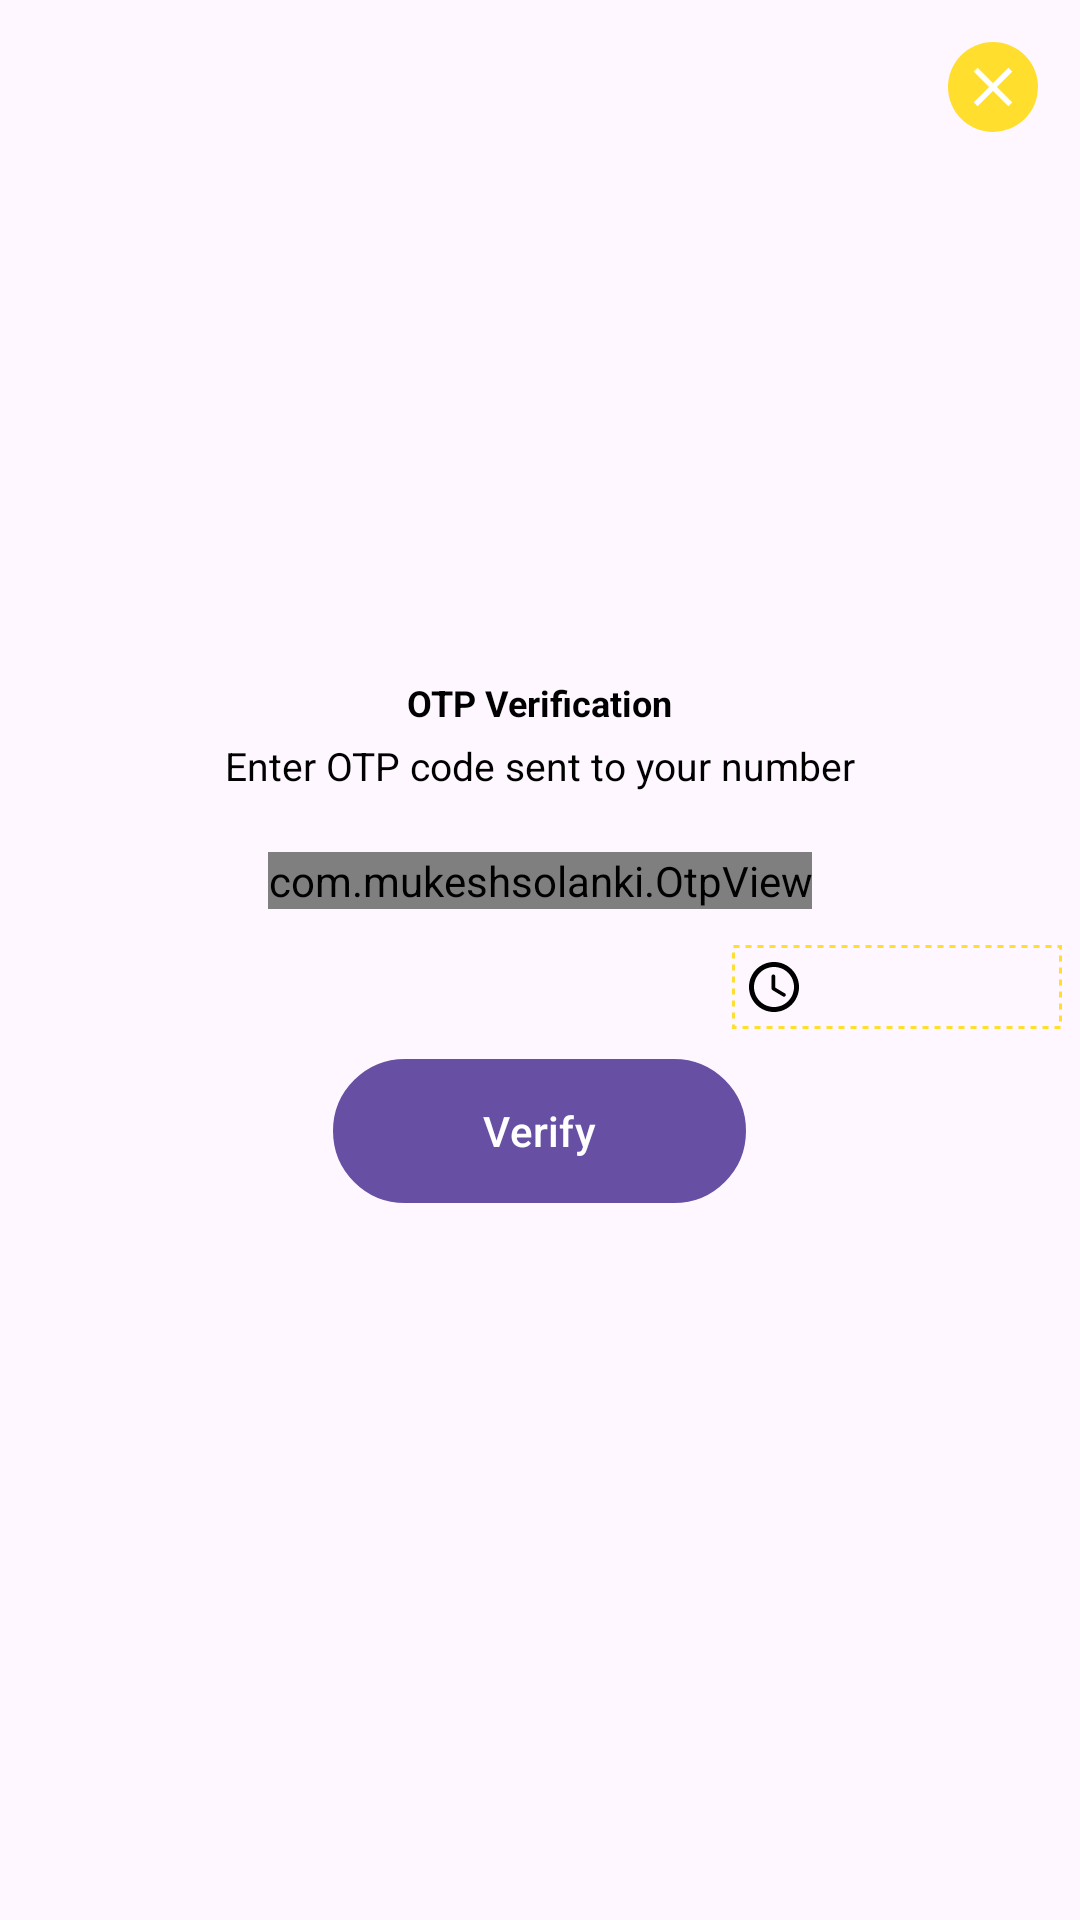

Locate icon controls on the screen. Image size 1080x1920, boxes as (x1=x1, y1=y1, x2=x2, y2=y2).
close: (x1=948, y1=42, x2=1038, y2=132)
